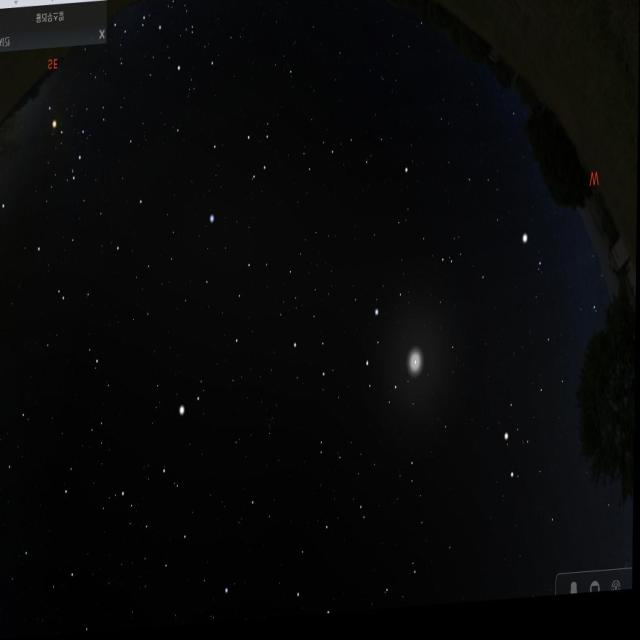bootes: (140, 388, 209, 587)
canis_minor: (521, 228, 555, 282)
gemini: (484, 367, 605, 510)
leo: (292, 292, 401, 428)
moon: (390, 340, 437, 394)
scorpius: (40, 88, 91, 202)
